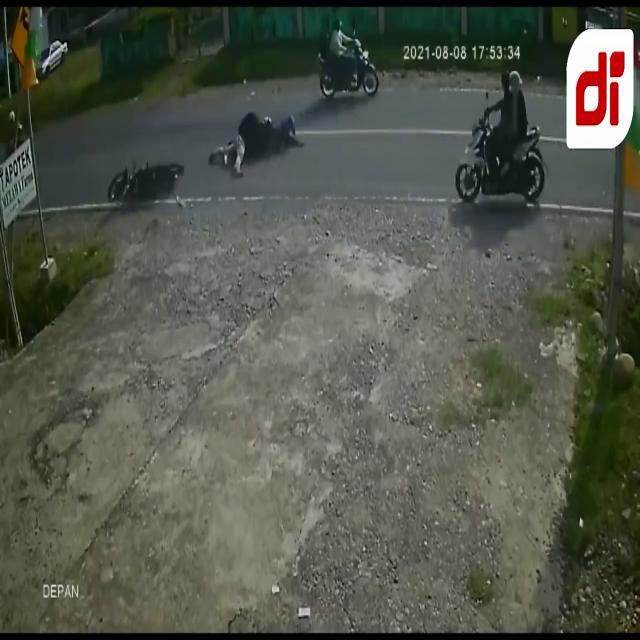normal: (459, 73, 541, 210), (303, 16, 381, 117), (20, 21, 71, 84)
single accident: (129, 119, 324, 210)
